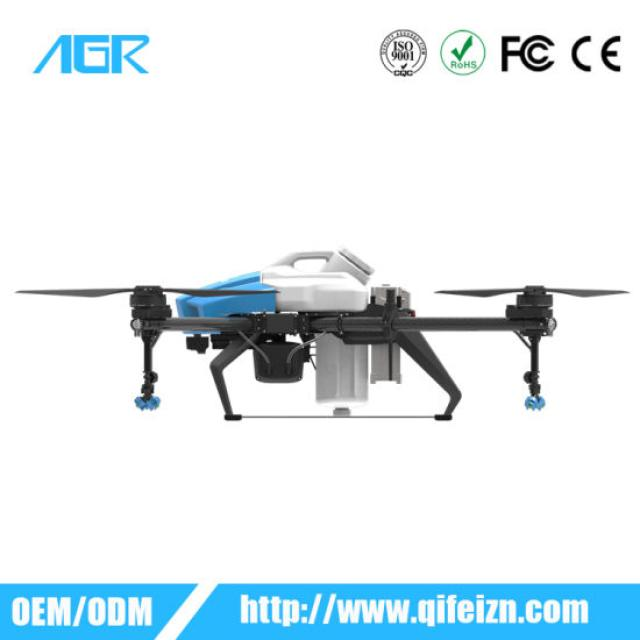drone: (39, 232, 587, 472)
